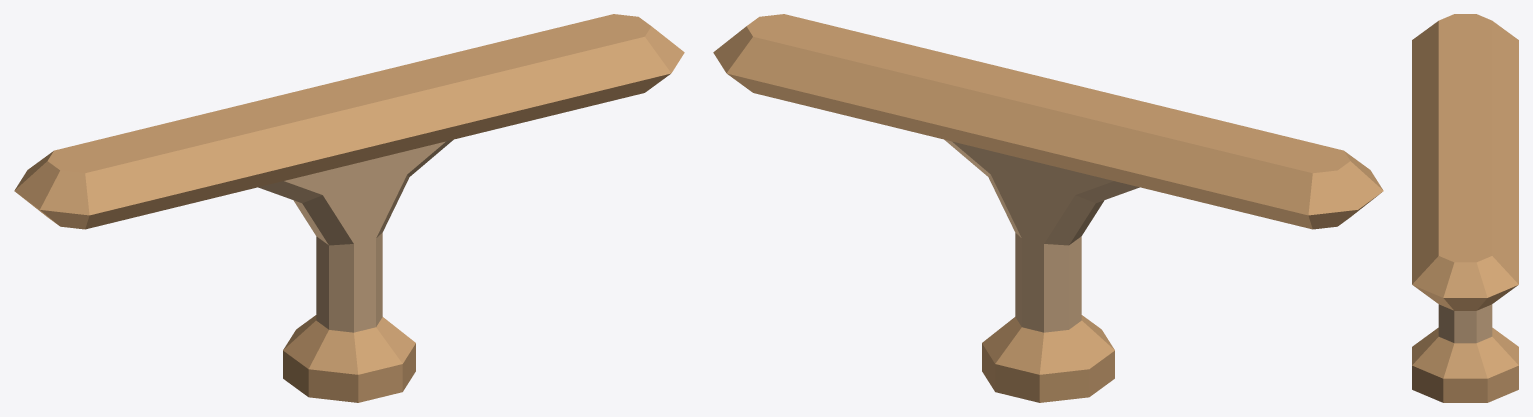
File: Balcony_Railing_Straight.fbx
3 views of the same model, side by side, from view 1: azimuth 30°, elevation 25°; view 2: azimuth 150°, elevation 25°; view 3: azimuth 270°, elevation 25° (orthographic). The views are drawn at different scales.
Parts seen in each view (by area): view 1: Sandstone_5.Sandstone_5.Sandstone_5.Sandstone_5.object1, Sandstone_4.Sandstone_4.Sandstone_4.Sandstone_4; view 2: Sandstone_5.Sandstone_5.Sandstone_5.Sandstone_5.object1, Sandstone_4.Sandstone_4.Sandstone_4.Sandstone_4; view 3: Sandstone_5.Sandstone_5.Sandstone_5.Sandstone_5.object1, Sandstone_4.Sandstone_4.Sandstone_4.Sandstone_4.
Part boxes in pixels (x1,y1,x2,y2): Sandstone_5.Sandstone_5.Sandstone_5.Sandstone_5.object1: [14, 14, 684, 402]; Sandstone_4.Sandstone_4.Sandstone_4.Sandstone_4: [258, 139, 453, 332]; Sandstone_5.Sandstone_5.Sandstone_5.Sandstone_5.object1: [713, 14, 1383, 402]; Sandstone_4.Sandstone_4.Sandstone_4.Sandstone_4: [944, 139, 1139, 332]; Sandstone_5.Sandstone_5.Sandstone_5.Sandstone_5.object1: [1412, 14, 1518, 402]; Sandstone_4.Sandstone_4.Sandstone_4.Sandstone_4: [1438, 304, 1492, 343].
Size of the model in its own units: 1.2 by 0.5 by 0.2.
